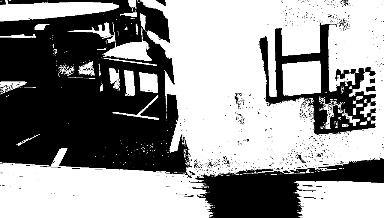H: (265, 24, 335, 95)
